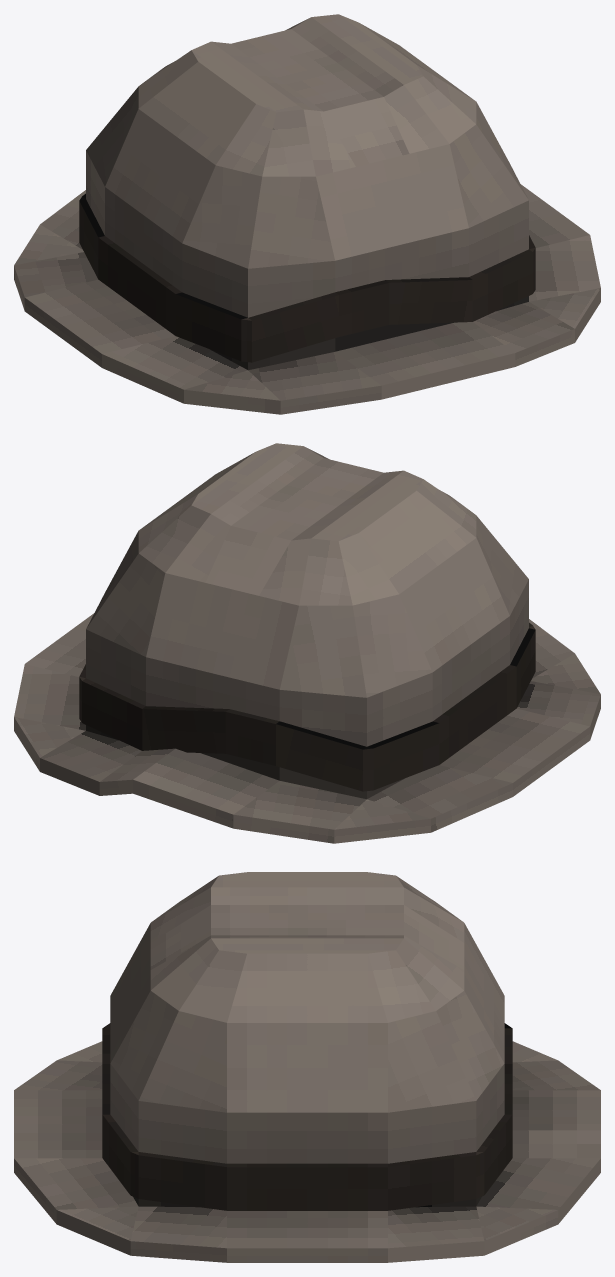
3 renders of one model, top to bottom at view 1: azimuth 30°, elevation 25°; view 2: azimuth 150°, elevation 25°; view 3: azimuth 270°, elevation 25°, orthographic. The views are drawn at different scales.
Visible parts, largest first — view 1: head; view 2: head; view 3: head.
Part boxes in pixels (box(x1,y1,x2,y2)): head: box(14, 14, 600, 414); head: box(14, 443, 600, 843); head: box(14, 872, 600, 1262).
Bounding box in the file's own units: 0.9125 × 0.4062 × 0.9125.
Materials: 1 (1 with a texture image).
